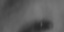LeftEyeFatigue: (10, 9, 59, 32)
